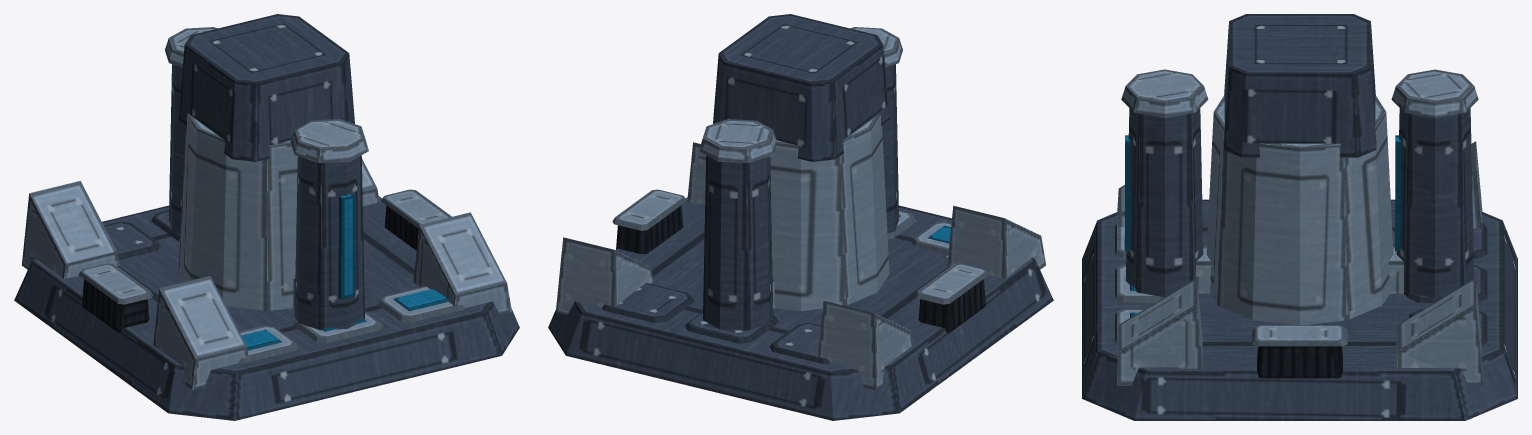
Rendered from building-rare_storage.fbx.
The picture shows the model from 3 angles, left to right: view 1: azimuth 30°, elevation 25°; view 2: azimuth 150°, elevation 25°; view 3: azimuth 270°, elevation 25°; orthographic projection. The views are drawn at different scales.
Parts seen in each view (by area): view 1: building-rare_storage; view 2: building-rare_storage; view 3: building-rare_storage.
Part boxes in pixels (x1=…): building-rare_storage: x1=14, y1=14, x2=519, y2=420; building-rare_storage: x1=548, y1=14, x2=1053, y2=420; building-rare_storage: x1=1082, y1=14, x2=1517, y2=420.
Size of the model in its own units: 1456 by 1050 by 1456.
1 material, 1 textured.
